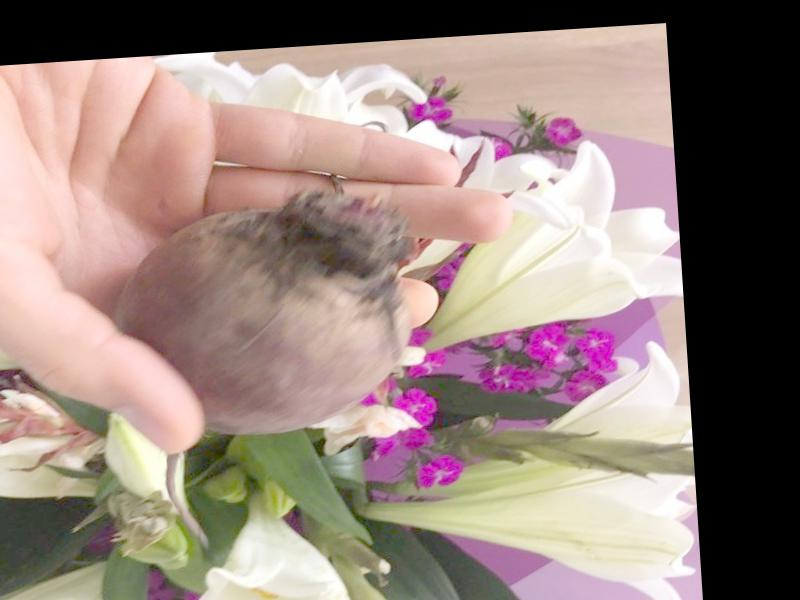Beet: (112, 194, 429, 551)
